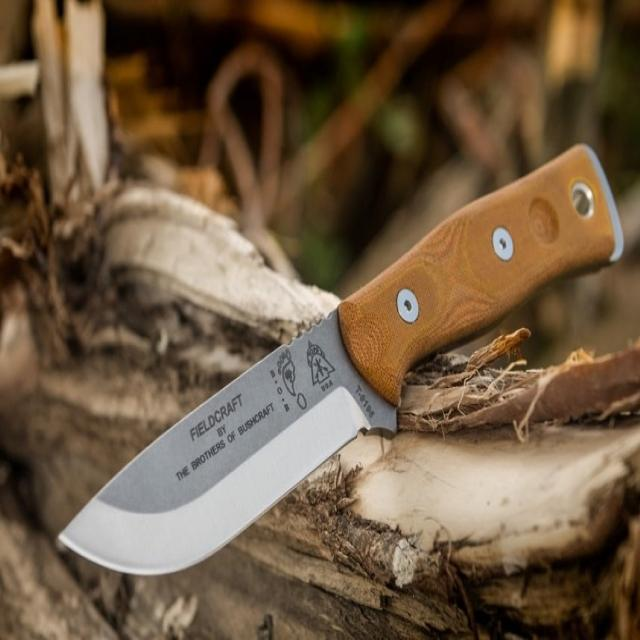knife: (47, 136, 631, 601)
